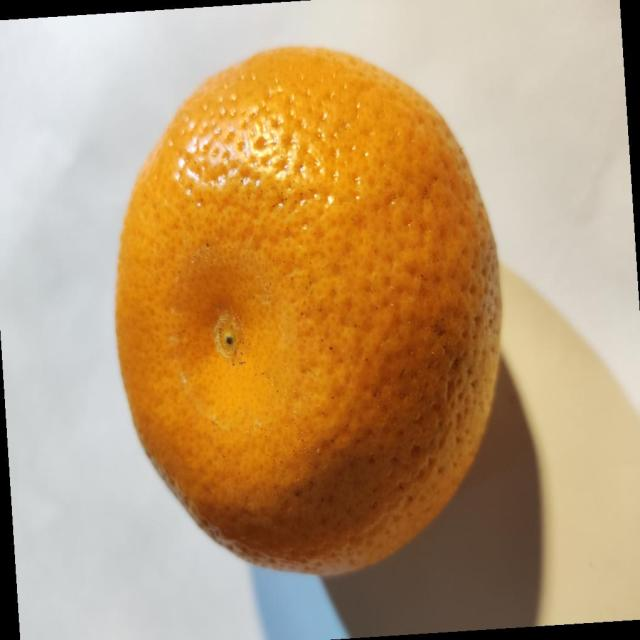fresh orange: (113, 44, 504, 577)
